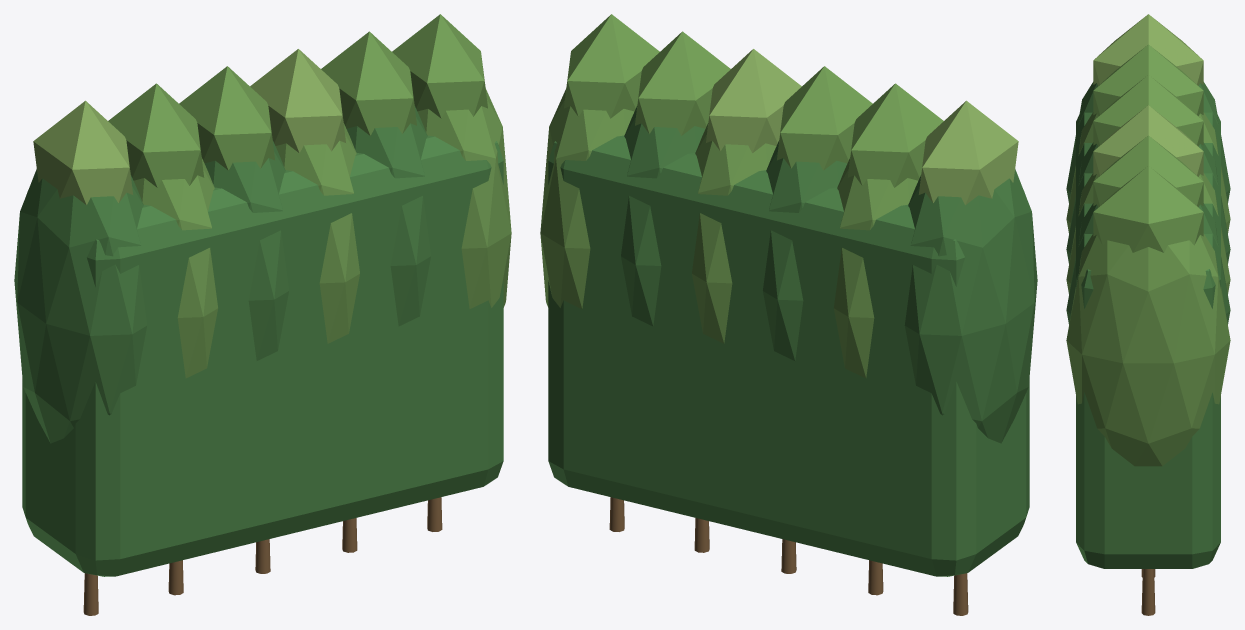
Rendered from hedge_tall_privacy.glb.
The picture shows the model from 3 angles, left to right: view 1: azimuth 30°, elevation 25°; view 2: azimuth 150°, elevation 25°; view 3: azimuth 270°, elevation 25°; orthographic projection. The views are drawn at different scales.
Visible parts, largest first — view 1: Dense tall hedge core, Rounded tall evergreen column, Rounded tall evergreen column.005, Evergreen crown, Rounded tall evergreen column.001, Rounded tall evergreen column.002, Rounded tall evergreen column.004, Rounded tall evergreen column.003, Evergreen crown.005, Evergreen crown.002, Evergreen crown.001, Evergreen crown.004 (+1 smaller); view 2: Dense tall hedge core, Rounded tall evergreen column, Rounded tall evergreen column.005, Evergreen crown, Rounded tall evergreen column.001, Rounded tall evergreen column.002, Rounded tall evergreen column.004, Rounded tall evergreen column.003, Evergreen crown.005, Evergreen crown.002, Evergreen crown.001, Evergreen crown.004 (+1 smaller); view 3: Rounded tall evergreen column.005, Dense tall hedge core, Evergreen crown.005, Evergreen crown, Evergreen crown.003, Evergreen crown.002, Evergreen crown.001, Evergreen crown.004, Rounded tall evergreen column.002, Rounded tall evergreen column, Rounded tall evergreen column.001, Rounded tall evergreen column.003 (+2 smaller).
Part boxes in pixels (x1,y1,x2,y2): Dense tall hedge core: (22, 135, 503, 576); Rounded tall evergreen column: (14, 169, 147, 443); Rounded tall evergreen column.005: (417, 88, 511, 308); Evergreen crown: (33, 100, 133, 205); Rounded tall evergreen column.001: (134, 157, 217, 378); Rounded tall evergreen column.002: (204, 140, 288, 360); Rounded tall evergreen column.004: (346, 106, 430, 326); Rounded tall evergreen column.003: (275, 123, 359, 343); Evergreen crown.005: (392, 14, 487, 118); Evergreen crown.002: (179, 66, 274, 170); Evergreen crown.001: (108, 83, 204, 187); Evergreen crown.004: (321, 31, 416, 135); Dense tall hedge core: (548, 135, 1029, 576); Rounded tall evergreen column: (904, 169, 1037, 443); Rounded tall evergreen column.005: (540, 88, 634, 308); Evergreen crown: (918, 100, 1018, 205); Rounded tall evergreen column.001: (834, 157, 917, 378); Rounded tall evergreen column.002: (763, 140, 847, 360); Rounded tall evergreen column.004: (621, 106, 705, 326); Rounded tall evergreen column.003: (692, 123, 776, 343); Evergreen crown.005: (564, 14, 659, 118); Evergreen crown.002: (777, 66, 872, 170); Evergreen crown.001: (847, 83, 943, 187); Evergreen crown.004: (635, 31, 730, 135); Rounded tall evergreen column.005: (1066, 233, 1230, 466); Dense tall hedge core: (1076, 112, 1220, 568); Evergreen crown.005: (1093, 166, 1203, 252); Evergreen crown: (1093, 14, 1203, 85); Evergreen crown.003: (1093, 105, 1203, 176); Evergreen crown.002: (1093, 75, 1203, 146); Evergreen crown.001: (1093, 44, 1203, 115); Evergreen crown.004: (1093, 135, 1203, 206); Rounded tall evergreen column.002: (1066, 142, 1230, 263); Rounded tall evergreen column: (1066, 82, 1230, 202); Rounded tall evergreen column.001: (1066, 112, 1230, 233); Rounded tall evergreen column.003: (1066, 173, 1230, 293).
Size of the model in its own units: 2.45 by 2.6 by 0.86.
